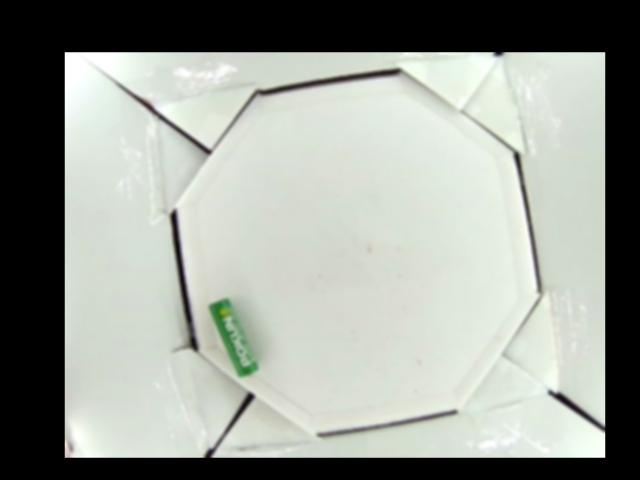Battery: (209, 298, 258, 379)
